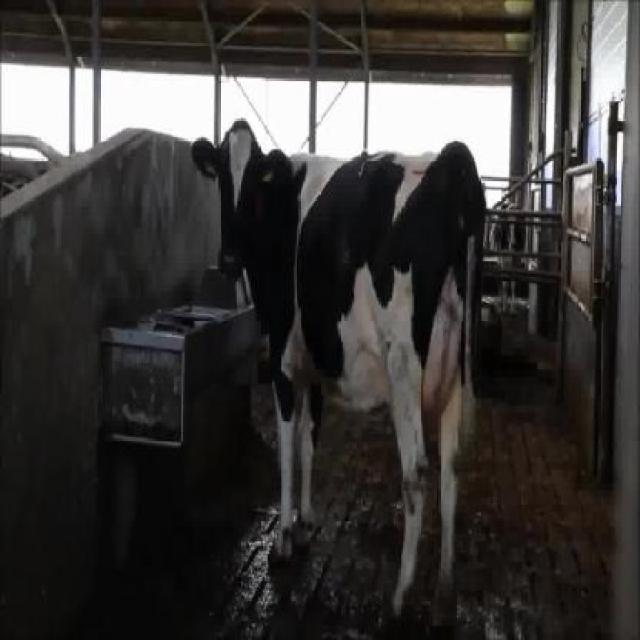Cow: (189, 116, 488, 638)
